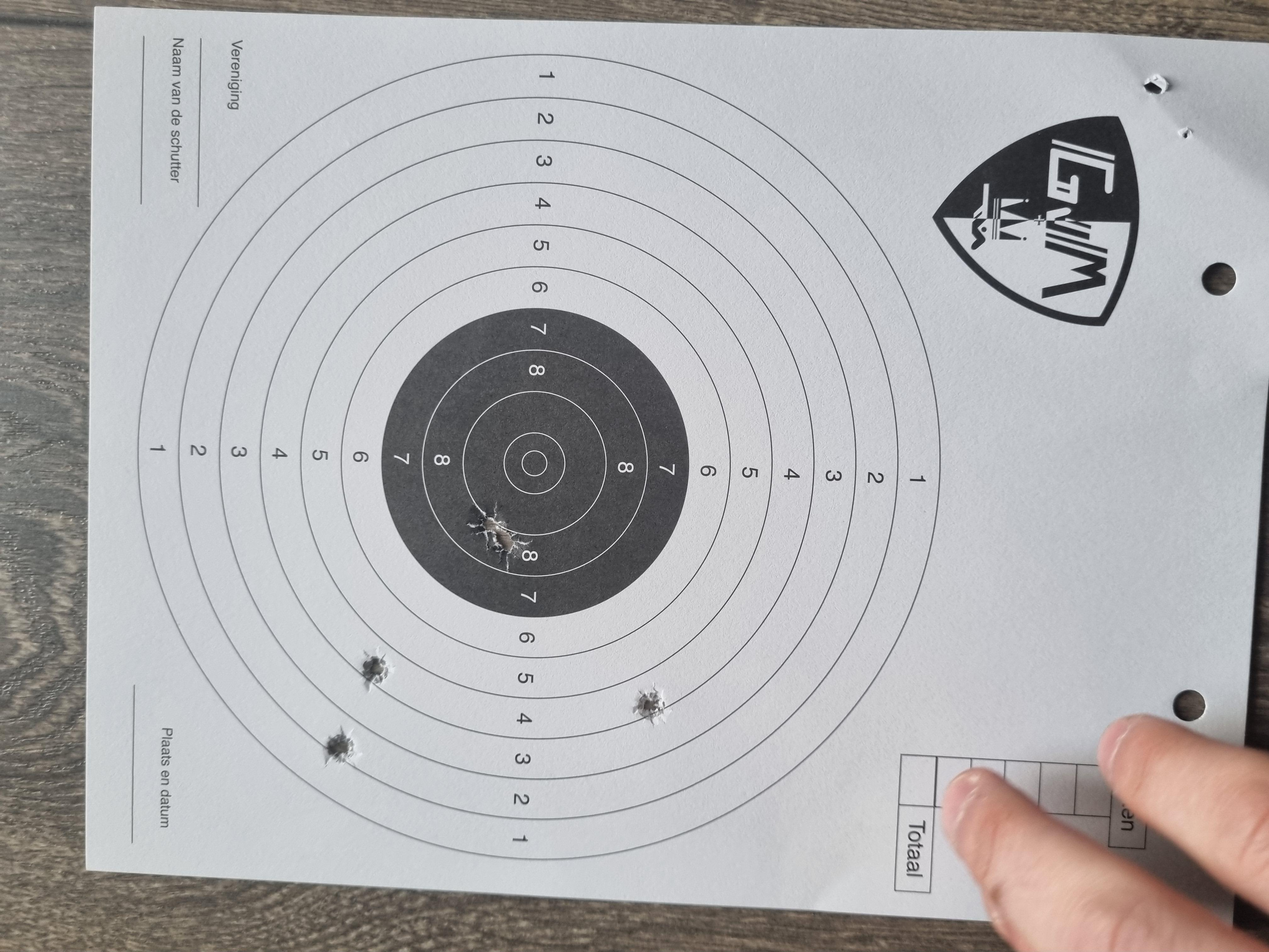hole: (534, 350, 601, 379), (507, 369, 559, 399), (245, 241, 301, 266), (301, 476, 358, 499), (347, 271, 402, 291)
